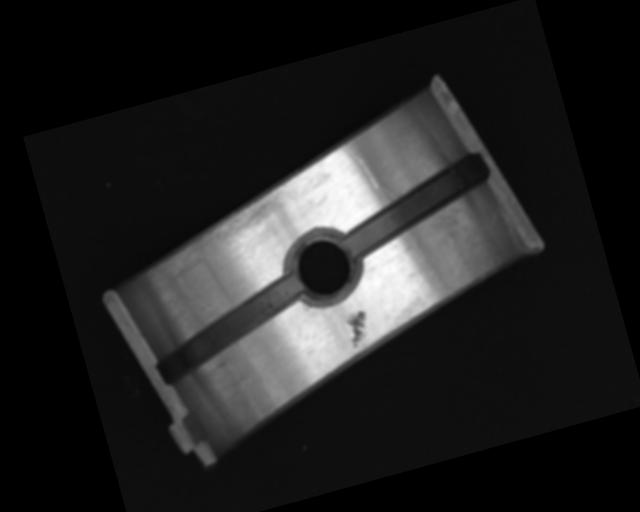bruise: (342, 308, 374, 350)
gap: (145, 271, 316, 387), (332, 151, 501, 258)
hole: (278, 223, 370, 311)
nick: (338, 137, 377, 195)
scratch: (138, 160, 350, 289)
